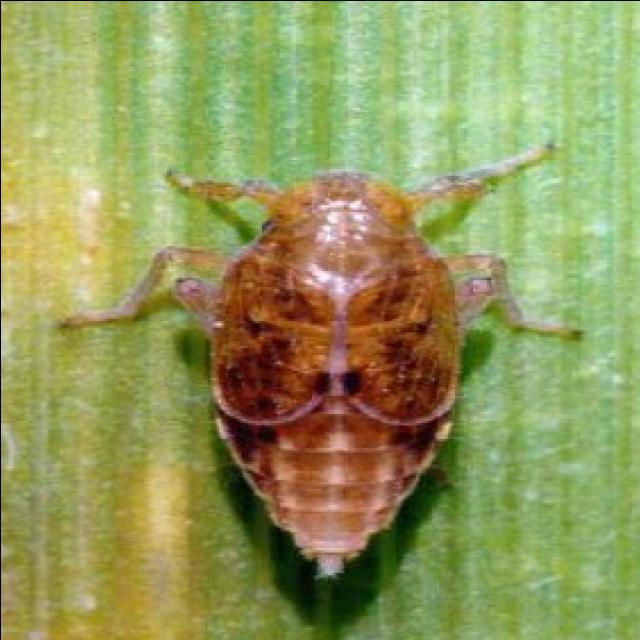brown plant hopper: (66, 145, 574, 574)
